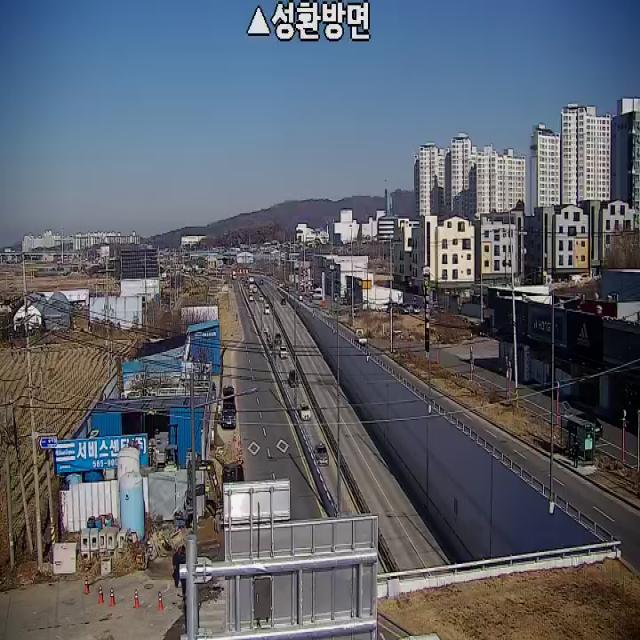Car: (572, 414, 603, 442), (314, 442, 330, 466), (299, 401, 311, 420), (288, 369, 299, 387), (279, 345, 288, 358), (275, 334, 282, 344), (259, 294, 264, 302), (281, 298, 286, 306)
Truck: (221, 386, 236, 430), (355, 328, 367, 346), (264, 303, 270, 314)
